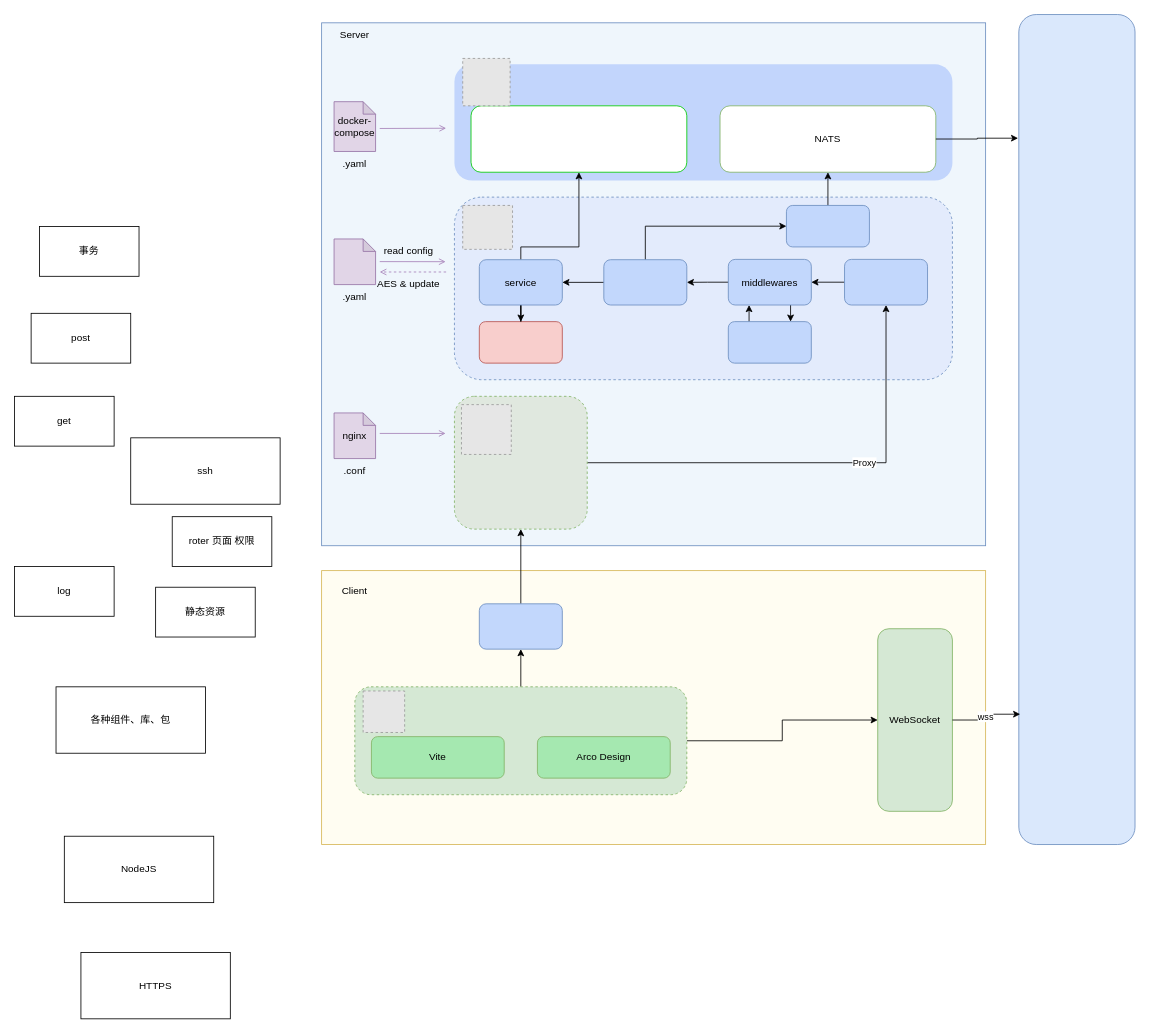
Image size: 1150x1033. Some labels were removed from this diagram. Grey dashed boxes stand in for pictures. Each missing label, with the centre of its shape:
"axios" belongs at point 520,626.
"cache" belongs at point 520,342.
"config" belongs at point 354,261.
"controller" belongs at point 645,282.
"Gin" belongs at point 886,282.
"JWT" belongs at point 769,342.
"message - service" belongs at point 827,226.
"MongoDB" belongs at point 578,138.
"NATS - server" belongs at point 1076,429.
